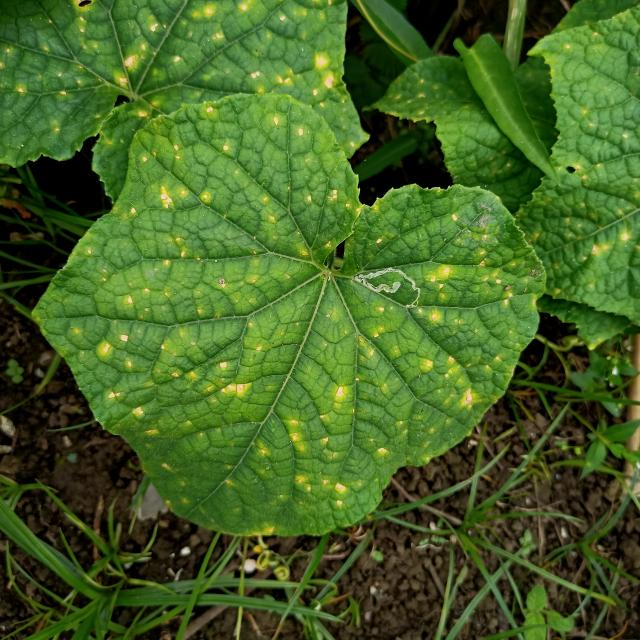disease_cucumber: (47, 107, 531, 535), (12, 4, 344, 136)
